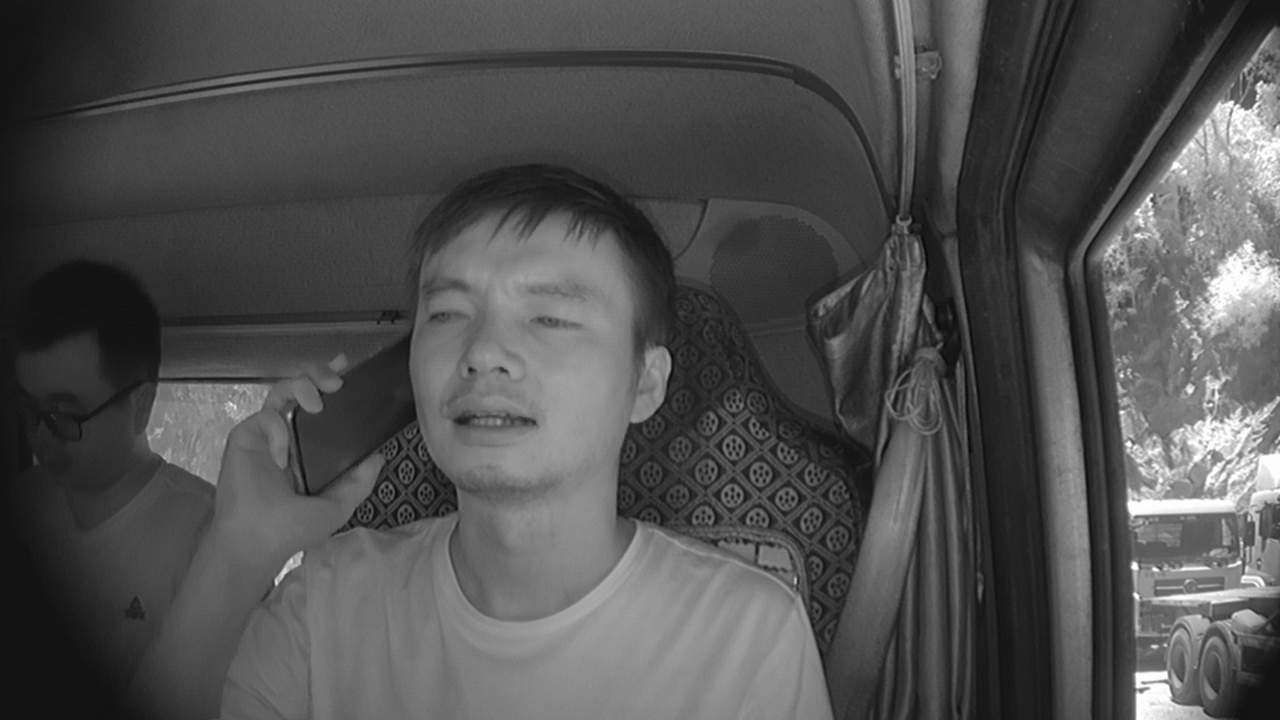hand: (213, 351, 382, 571)
